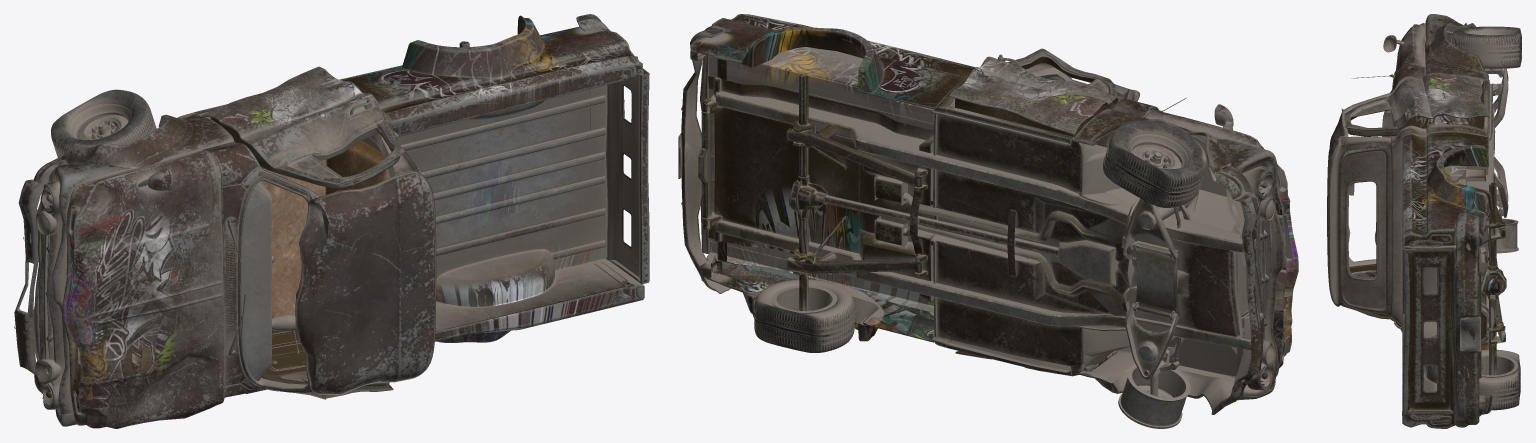
The model's file is Truck_A.obj.
The picture shows the model from 3 angles, left to right: view 1: azimuth 30°, elevation 25°; view 2: azimuth 150°, elevation 25°; view 3: azimuth 270°, elevation 25°; orthographic projection. The views are drawn at different scales.
Parts seen in each view (by area): view 1: Object_6, Object_5, Object_7; view 2: Object_5, Object_6, Object_7; view 3: Object_6, Object_5, Object_7.
Part boxes in pixels (box(x1,y1,x2,y2)): Object_6: box(339, 14, 649, 342); Object_5: box(14, 104, 436, 426); Object_7: box(51, 66, 404, 428); Object_5: box(715, 63, 1286, 414); Object_6: box(678, 14, 975, 342); Object_7: box(754, 48, 1298, 428); Object_6: box(1402, 132, 1506, 428); Object_5: box(1327, 14, 1508, 328); Object_7: box(1341, 23, 1521, 410).
Bounding box in the file's own units: 5.48 × 2.6 × 1.95.
3 materials, 3 textured.
